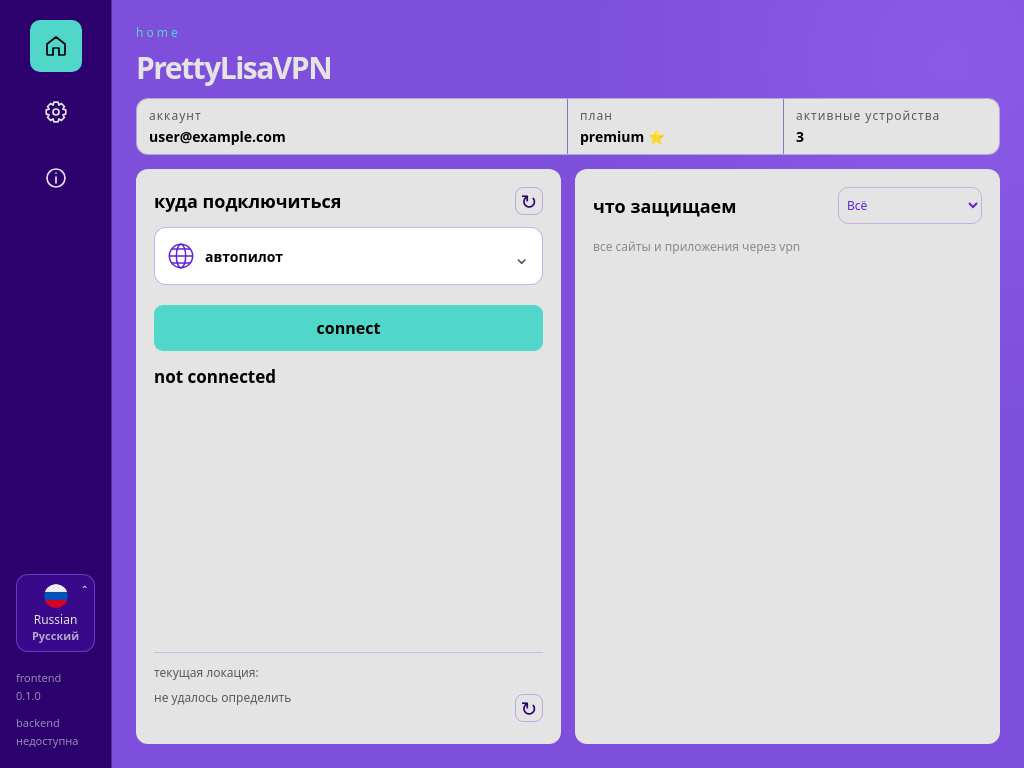
Scenario: keeps navigation usable when the backend version is unavailable
expect the text "недоступна" is shown: met, box [16,733,78,748]
Click the link named "о приложении" at point(56, 178), box [44,166,68,190]
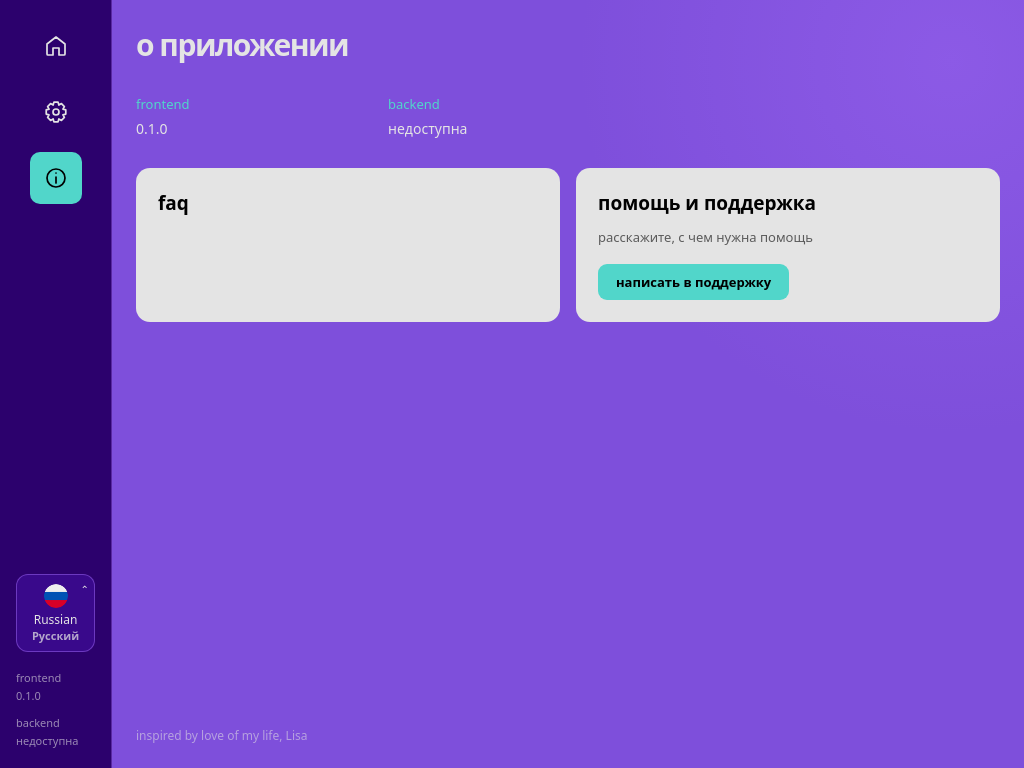
expect the heading "о приложении" is shown: met, box [136,24,348,65]
